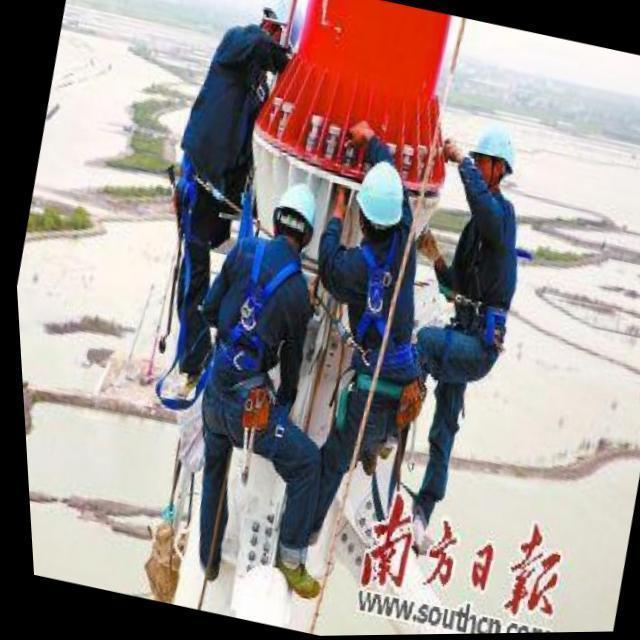Harness: (215, 233, 302, 374), (356, 235, 398, 342)
